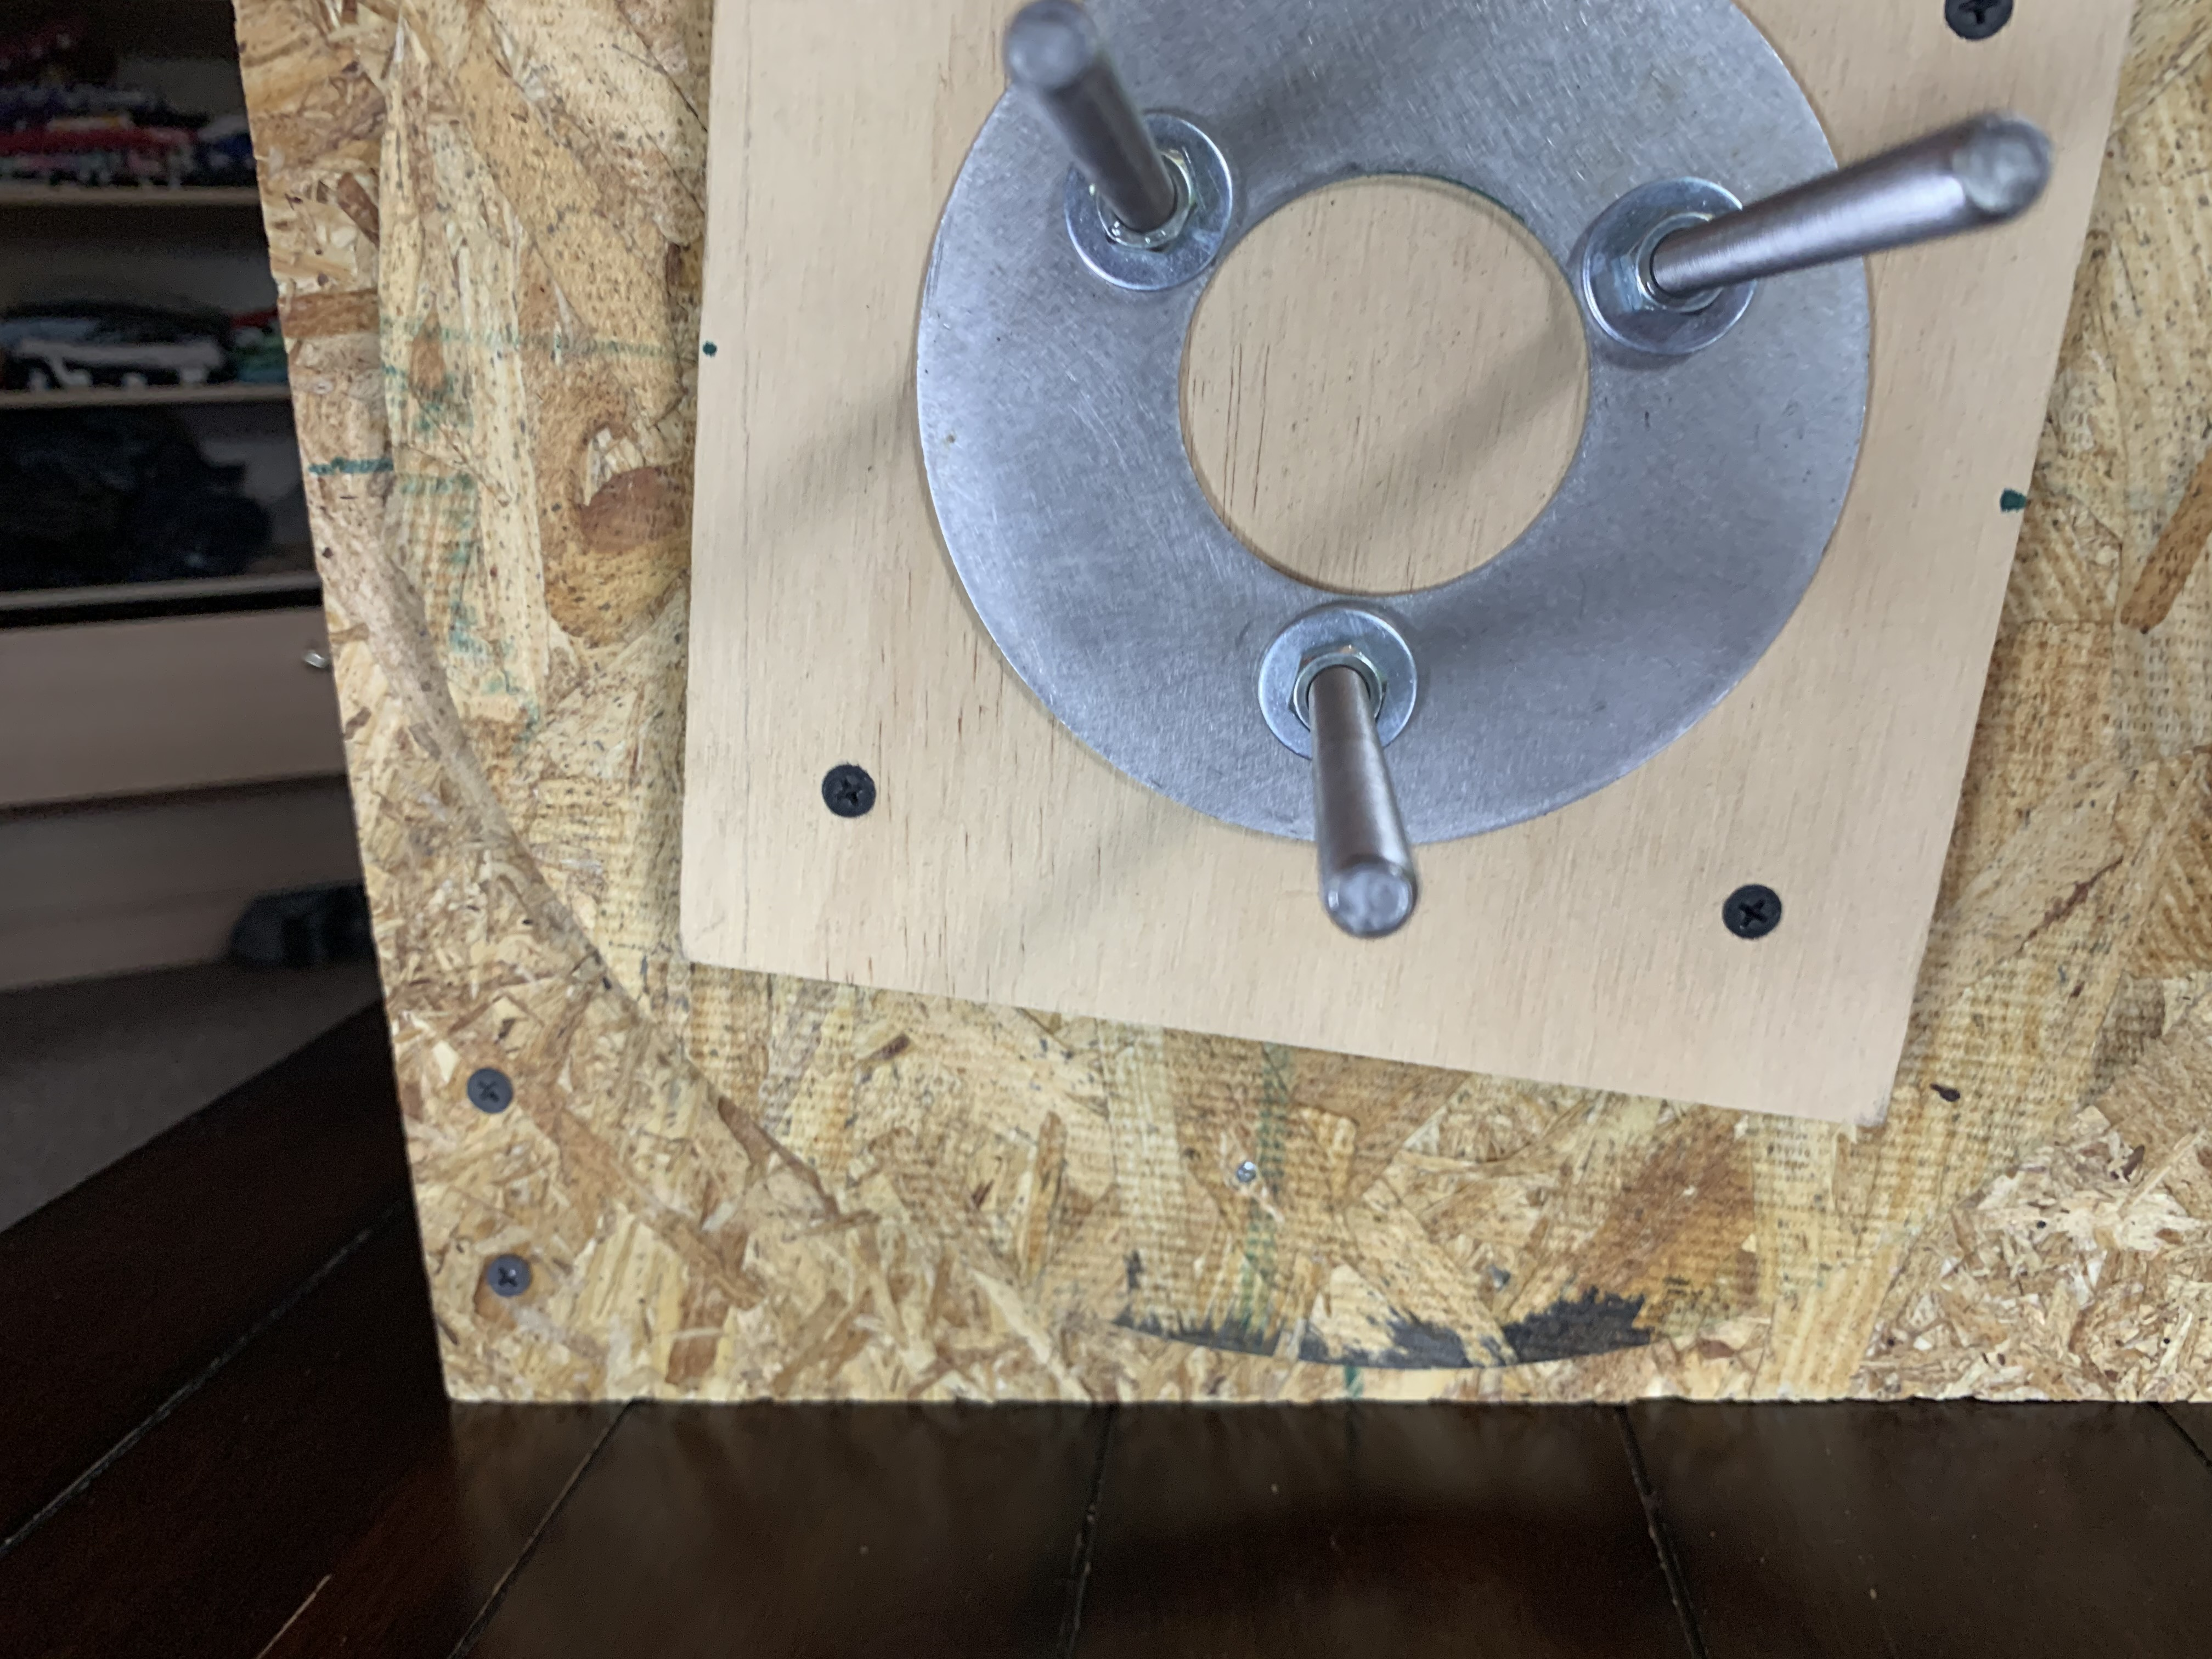bolt: (1059, 106, 1242, 293), (1581, 178, 1756, 362), (1251, 599, 1420, 765)
